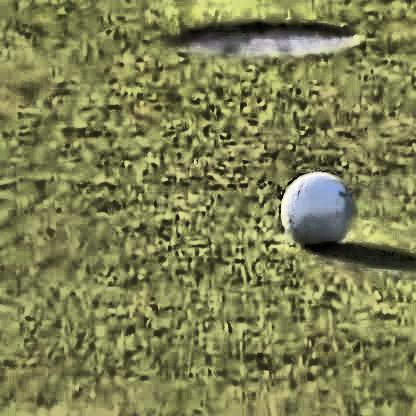golfball: (277, 167, 351, 243)
